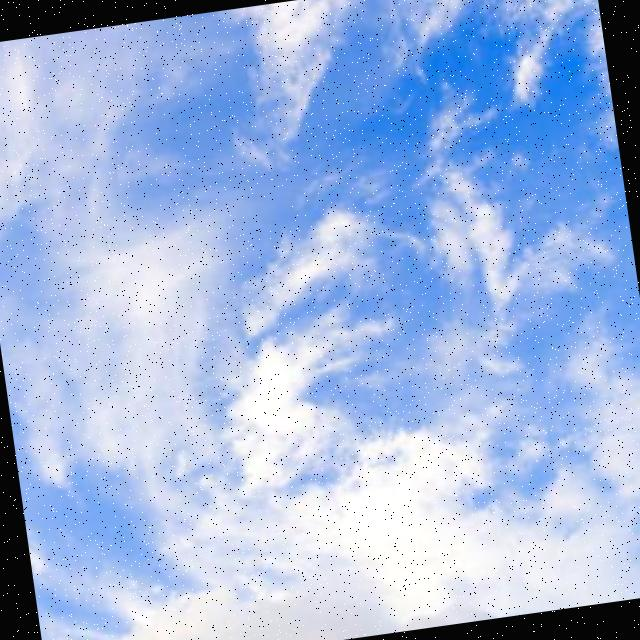Ci: (1, 1, 640, 626)
